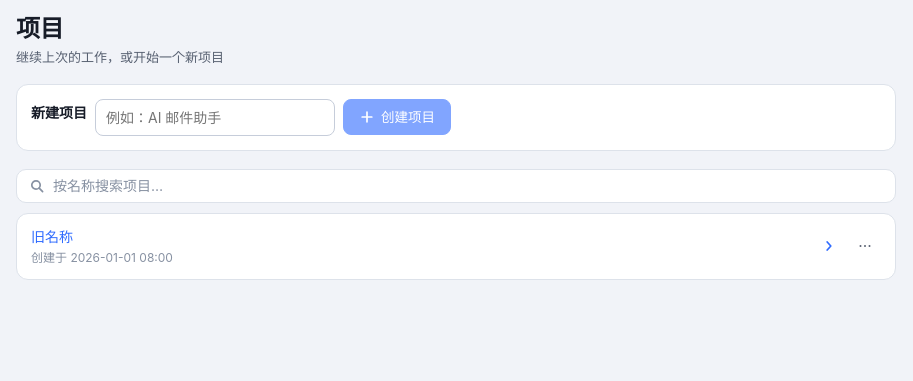
ProjectsView › renames a project inline in its own row and reflects the new title
The image size is (913, 381).
Click the button with test id "project-menu-p1" at (865, 246), box [849,230,881,262]
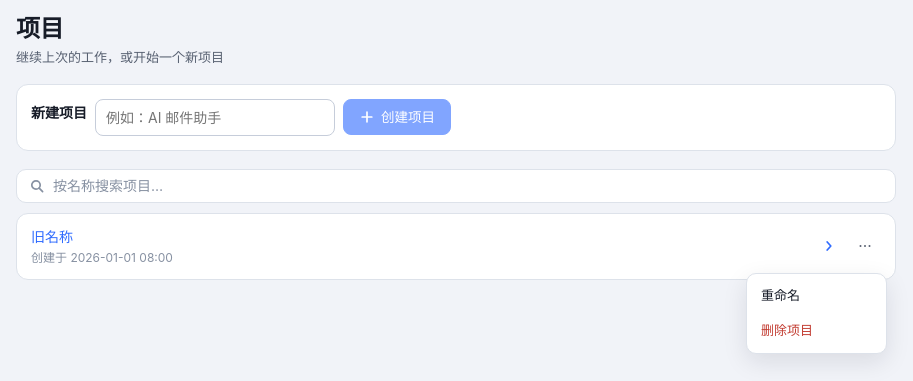
Click the menu item with test id "rename-project-p1" at (816, 295), box [751,278,882,313]
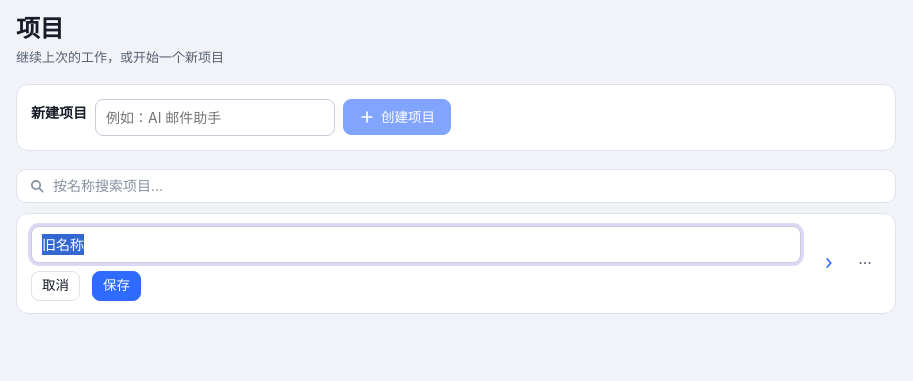
Expected: the field with test id "rename-project-input" is shown
Replace the text in the field with test id "rename-project-input" with "新名称" at (416, 244), box [31,226,801,262]
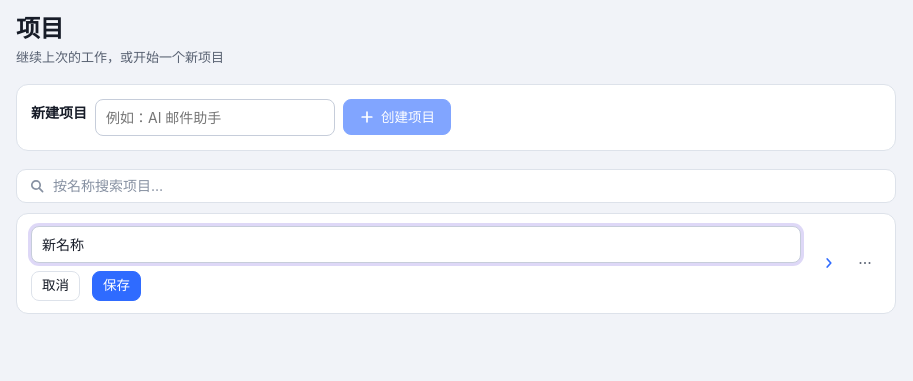
Click the button with test id "rename-project-confirm" at (116, 286), box [92,270,141,300]
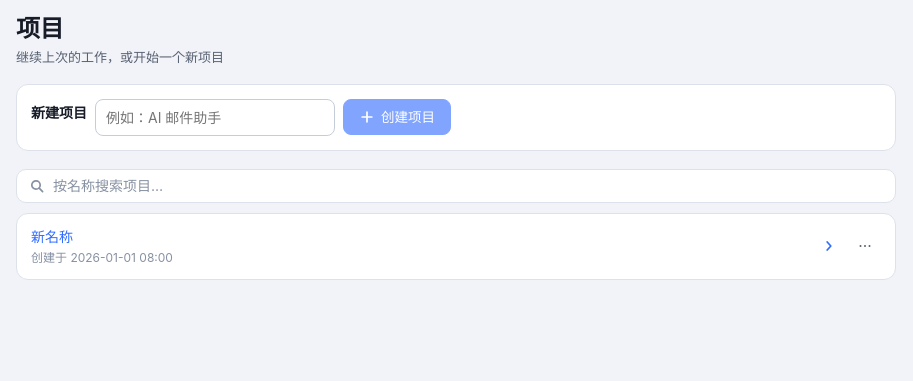
Expected: the text "新名称" is shown, [31,228,73,244]
